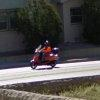Motorcycle: (28, 41, 65, 72)
